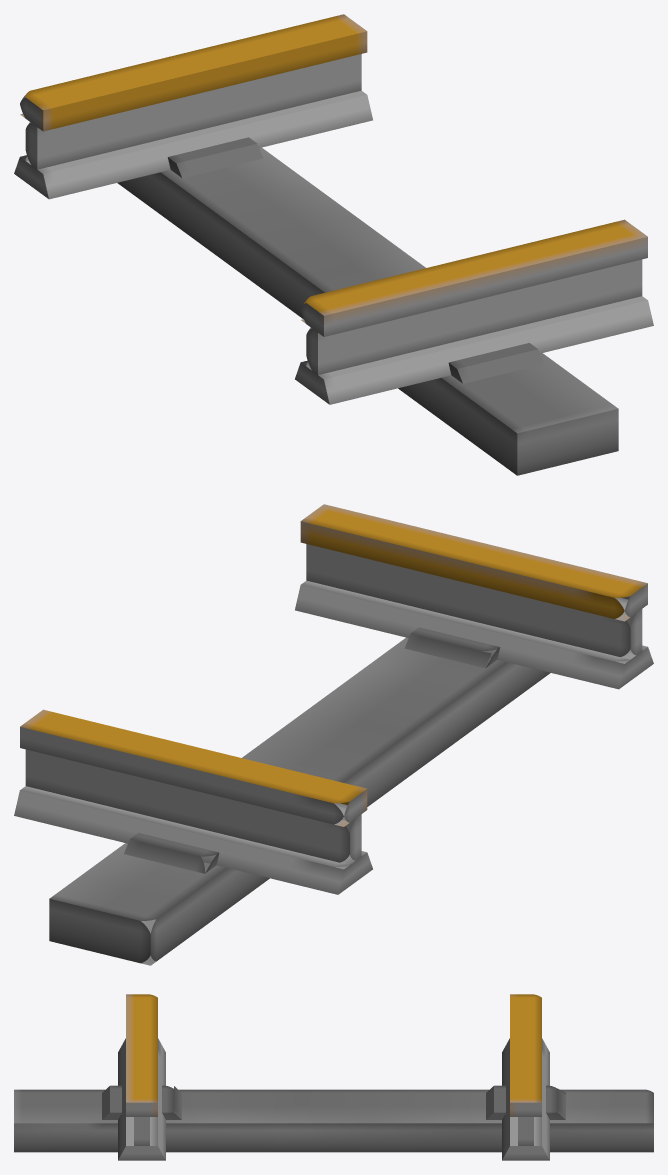
Rendered from highspeed_track.obj.
The picture shows the model from 3 angles, top to bottom: view 1: azimuth 30°, elevation 25°; view 2: azimuth 150°, elevation 25°; view 3: azimuth 270°, elevation 25°; orthographic projection. The views are drawn at different scales.
Visible parts, largest first — view 1: RAIL_BASE, RAIL_RIGHT, RAIL_LEFT; view 2: RAIL_BASE, RAIL_RIGHT, RAIL_LEFT; view 3: RAIL_BASE, RAIL_RIGHT, RAIL_LEFT.
Part boxes in pixels (x1,y1,x2,y2): RAIL_BASE: (117,137,618,475); RAIL_RIGHT: (14,14,372,199); RAIL_LEFT: (295,219,653,404); RAIL_BASE: (49,627,550,965); RAIL_RIGHT: (14,709,372,894); RAIL_LEFT: (295,504,653,689); RAIL_BASE: (14,1085,653,1152); RAIL_RIGHT: (502,994,549,1160); RAIL_LEFT: (118,994,165,1160).
Size of the model in its own units: 1 by 0.375 by 2.5.
1 material, 1 textured.
